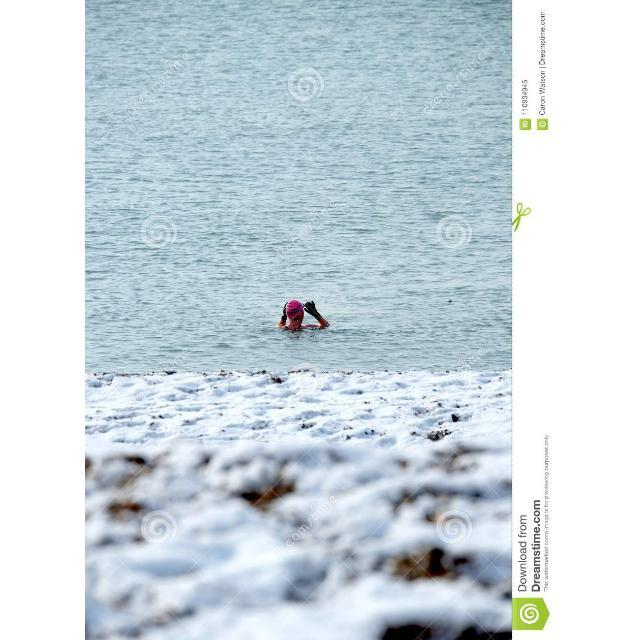human: (278, 296, 328, 332)
